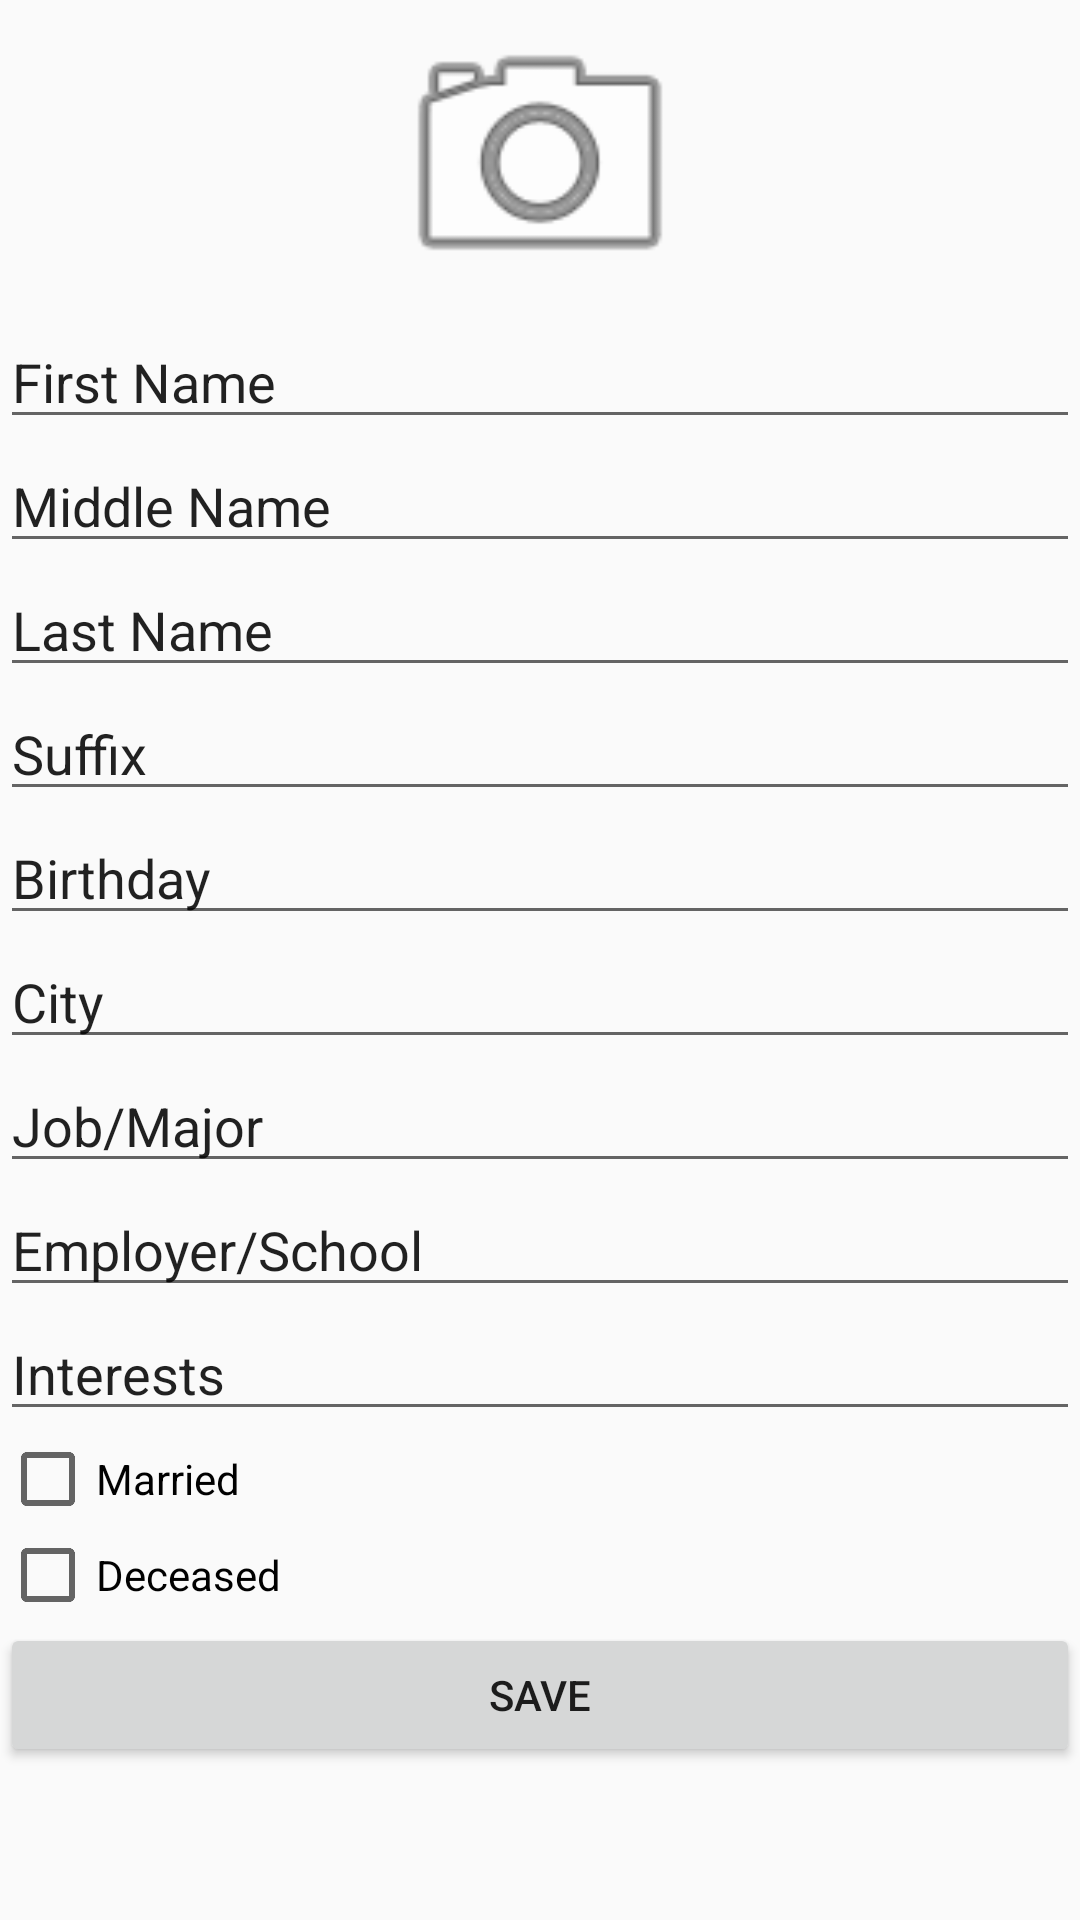

Named icons in this screenshot (1080*1920) and their bounding boxes, (x1=x1, y1=y1, x2=x2, y2=y2):
camera: (x1=418, y1=55, x2=662, y2=250)
